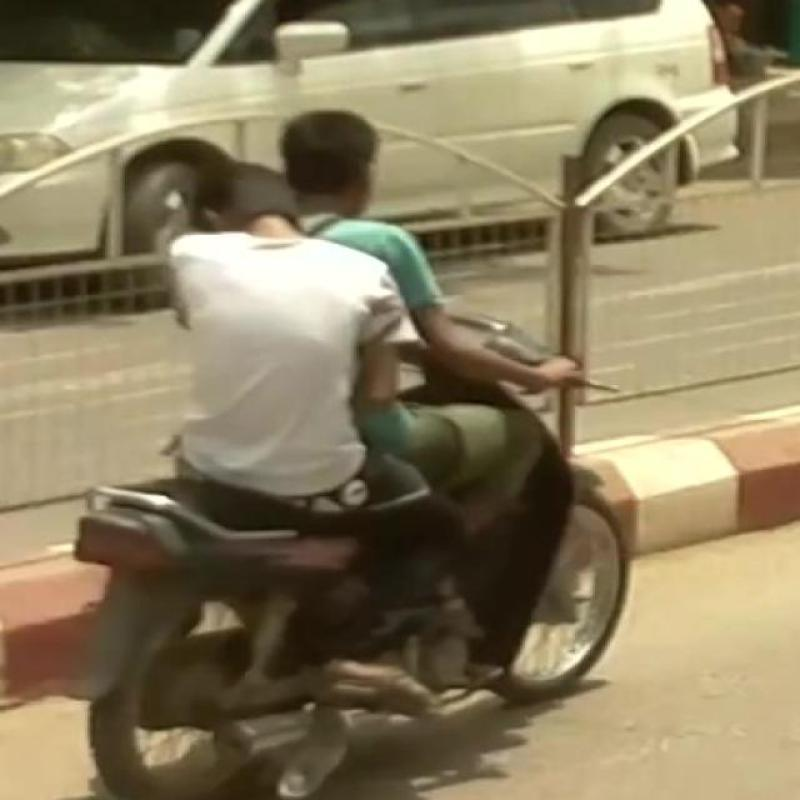nohelmet: (165, 143, 340, 252)
